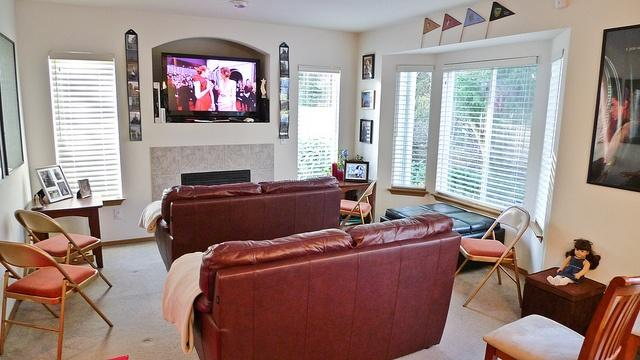AIO PC-Monitor-TV: (159, 50, 261, 124)
Kursi: (0, 239, 112, 359), (481, 274, 639, 359), (454, 204, 530, 307)
